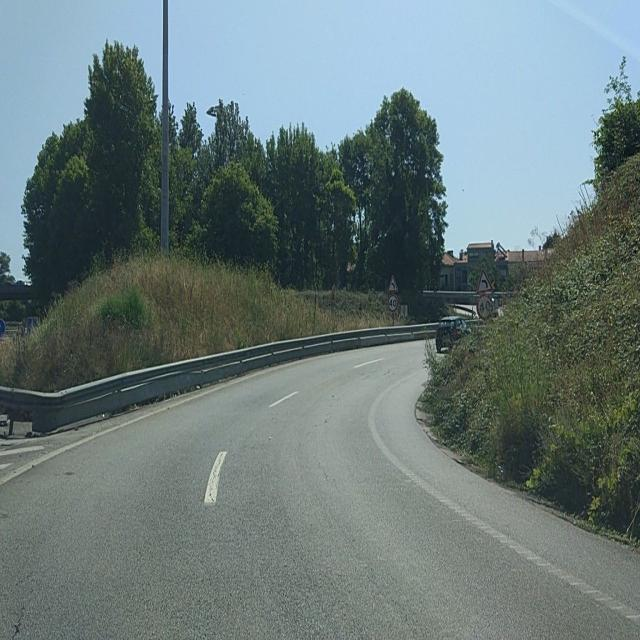car: (435, 315, 477, 353)
